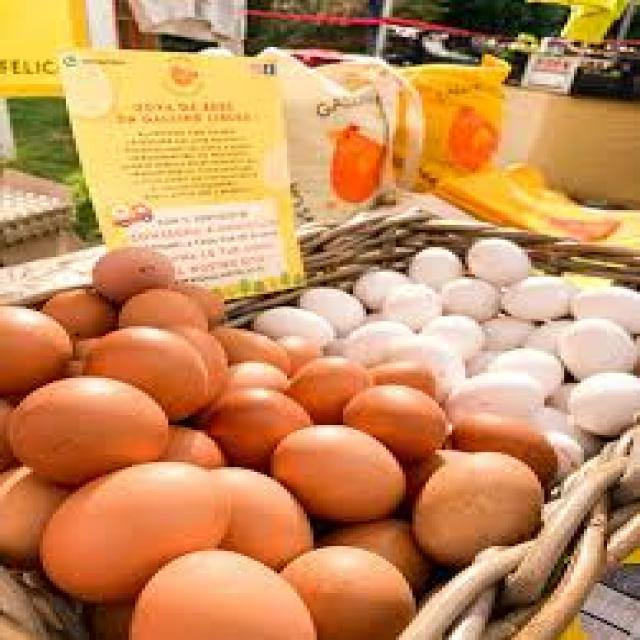Egg: (5, 313, 418, 628), (273, 302, 633, 438)
